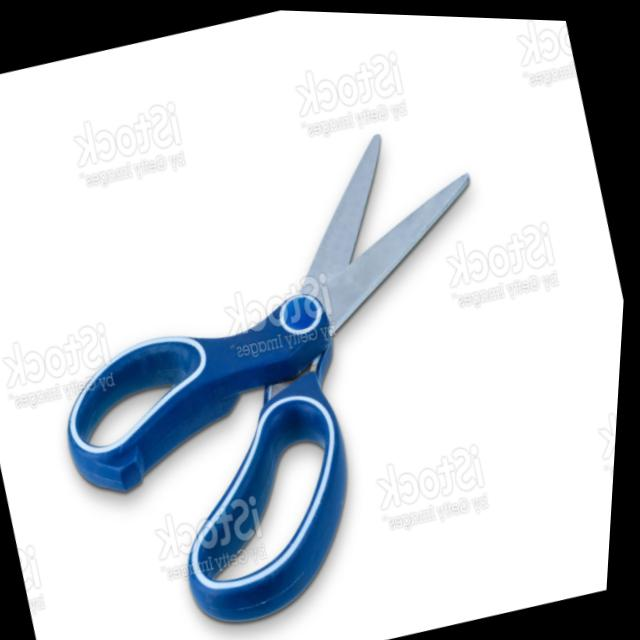scissor: (0, 66, 580, 640)
